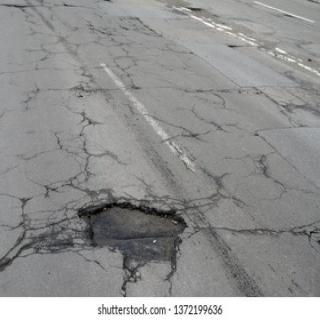pothole: (79, 204, 188, 247)
